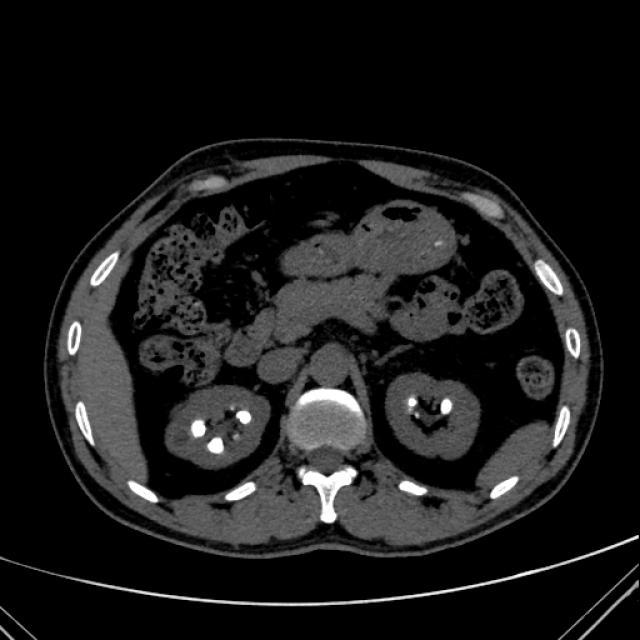kidneystone: (191, 420, 206, 438), (236, 410, 251, 424), (408, 396, 419, 414), (208, 439, 222, 453), (440, 398, 452, 414)
